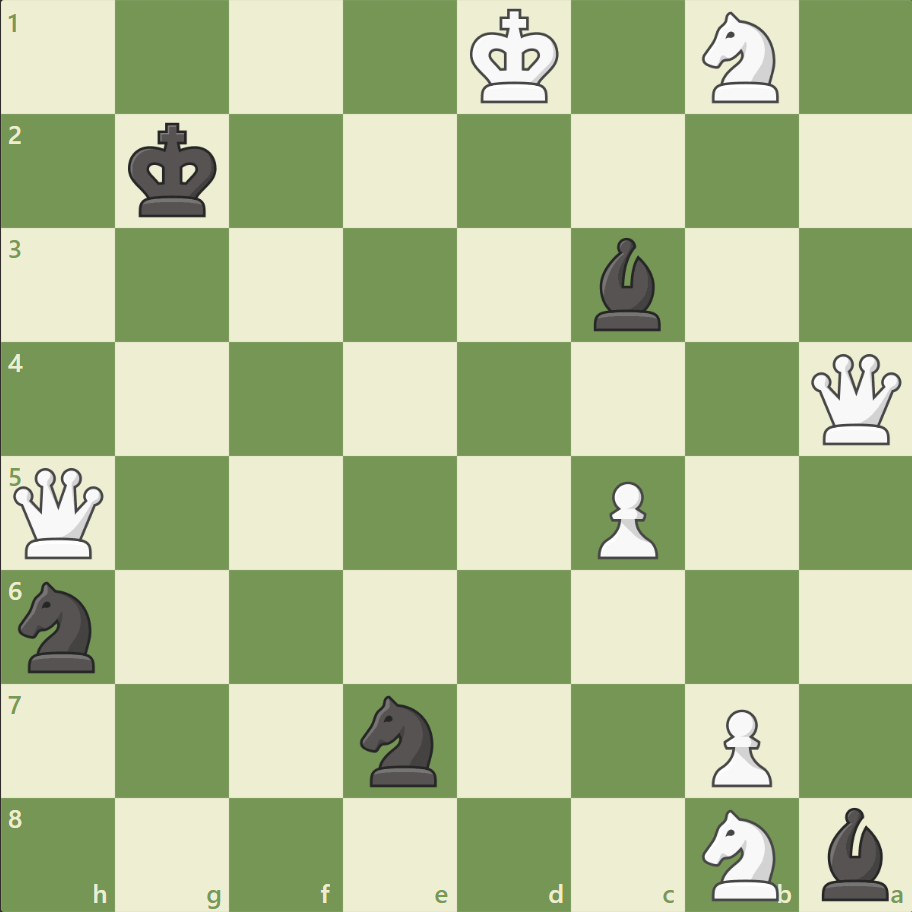K: (465, 4, 565, 112)
N: (692, 7, 789, 110), (692, 802, 789, 904)
P: (701, 700, 776, 791), (588, 473, 662, 564)
Q: (805, 349, 904, 449), (10, 463, 109, 562)
b: (812, 801, 896, 904), (585, 233, 669, 336)
k: (124, 117, 224, 225)
n: (351, 688, 449, 791), (11, 575, 108, 677)
